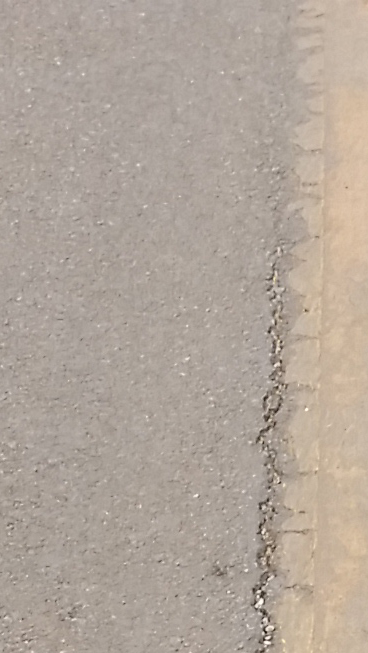A: (233, 216, 322, 653)
